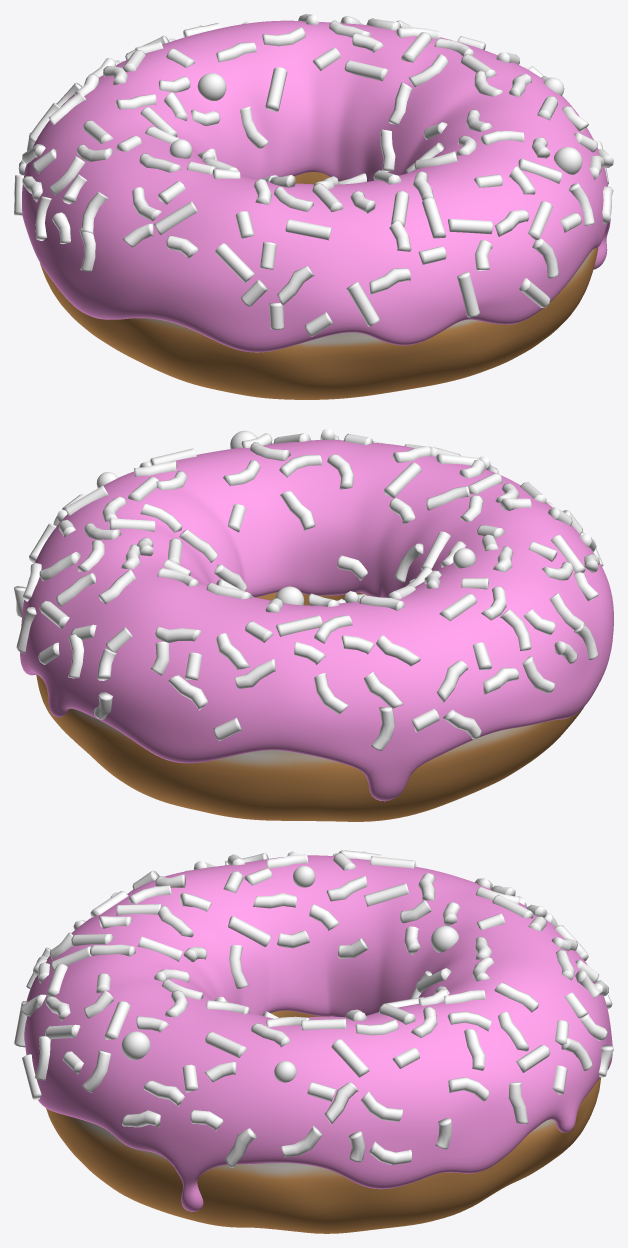
File: donut.glb
The picture shows the model from 3 angles, top to bottom: view 1: azimuth 30°, elevation 25°; view 2: azimuth 150°, elevation 25°; view 3: azimuth 270°, elevation 25°; orthographic projection.
Visible parts, largest first — view 1: Icing, Donut, Sprinkle.134, Sprinkle.021, Sphere.012, Sprinkle.051, Sprinkle.110, Sprinkle.019, Sprinkle.099, Sprinkle.121, Sphere.004, Sprinkle.129 (+9 smaller); view 2: Icing, Donut, Sprinkle.109, Sprinkle.137, Sprinkle.076, Sprinkle.133, Sprinkle.045, Sprinkle.084, Sprinkle.031, Sprinkle.068, Sprinkle.087, Sprinkle.100 (+7 smaller); view 3: Icing, Donut, Sphere.004, Sprinkle.006, Sprinkle.027, Sprinkle.139, Sprinkle.011, Sprinkle.082, Sprinkle.042, Sprinkle.024, Sprinkle.067, Sphere.012 (+13 smaller).
Boxes of the visible parts, <box> form: Icing: <box>22,20,610,352</box>; Donut: <box>40,172,598,399</box>; Sprinkle.134: <box>346,281,380,326</box>; Sprinkle.021: <box>215,243,254,283</box>; Sphere.012: <box>197,73,226,100</box>; Sprinkle.051: <box>265,67,287,111</box>; Sprinkle.110: <box>285,219,331,240</box>; Sprinkle.019: <box>369,268,410,294</box>; Sprinkle.099: <box>277,266,314,305</box>; Sprinkle.121: <box>457,271,479,317</box>; Sphere.004: <box>554,147,582,174</box>; Sprinkle.129: <box>448,219,492,234</box>; Icing: <box>20,440,613,801</box>; Donut: <box>36,592,584,821</box>; Sprinkle.109: <box>314,673,348,714</box>; Sprinkle.137: <box>364,671,403,708</box>; Sprinkle.076: <box>280,491,315,530</box>; Sprinkle.133: <box>371,707,395,750</box>; Sprinkle.045: <box>436,660,468,702</box>; Sprinkle.084: <box>234,658,275,688</box>; Sprinkle.031: <box>376,635,420,666</box>; Sprinkle.068: <box>168,675,207,710</box>; Sprinkle.087: <box>216,633,249,670</box>; Sprinkle.100: <box>276,615,322,636</box>; Icing: <box>24,855,612,1211</box>; Donut: <box>46,1010,601,1233</box>; Sphere.004: <box>121,1031,150,1059</box>; Sprinkle.006: <box>324,1082,358,1124</box>; Sprinkle.027: <box>361,1091,402,1121</box>; Sprinkle.139: <box>228,916,270,947</box>; Sprinkle.011: <box>331,1039,369,1077</box>; Sprinkle.082: <box>281,1125,322,1157</box>; Sprinkle.042: <box>225,1128,257,1167</box>; Sprinkle.024: <box>369,1141,411,1164</box>; Sprinkle.067: <box>448,1077,489,1101</box>; Sphere.012: <box>431,926,458,952</box>.
Bounding box in the file's own units: 0.1035 × 0.0418 × 0.1049.
Materials: 3 (1 with a texture image).
